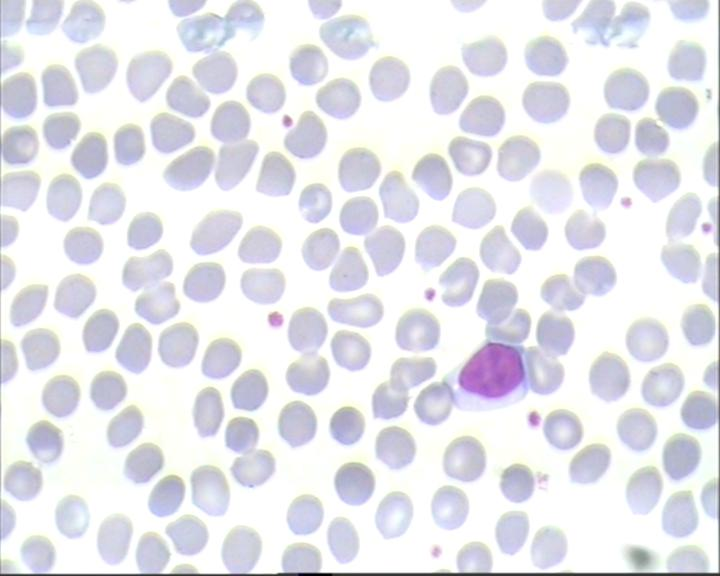lymp: (442, 338, 531, 414)
